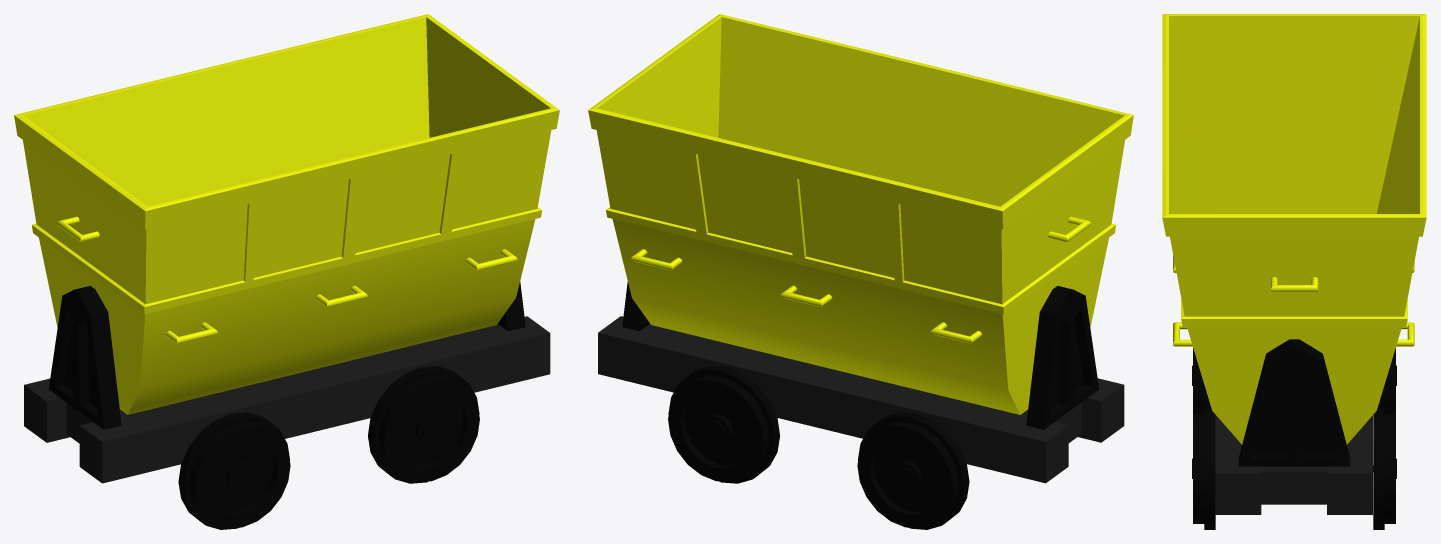
The model's file is CarroMinero.FBX.
3 views of the same model, side by side, from view 1: azimuth 30°, elevation 25°; view 2: azimuth 150°, elevation 25°; view 3: azimuth 270°, elevation 25° (orthographic).
Parts seen in each view (by area): view 1: cajon, Box015, Cylinder001, Cylinder004, Box017, Box016, Box018; view 2: cajon, Box016, Cylinder002, Cylinder005, Box017, Box015, Box018; view 3: cajon, Box018, Box015, Box016, Cylinder004, Cylinder005, Box021, Cylinder001, Cylinder002, Line008.
Part boxes in pixels (x1=…): cajon: x1=14, y1=14, x2=559, y2=414; Box015: x1=79, y1=316, x2=550, y2=483; Cylinder001: x1=178, y1=412, x2=290, y2=529; Cylinder004: x1=368, y1=366, x2=479, y2=483; Box017: x1=48, y1=285, x2=121, y2=429; Box016: x1=24, y1=378, x2=70, y2=442; Box018: x1=498, y1=281, x2=525, y2=331; cajon: x1=588, y1=14, x2=1133, y2=414; Box016: x1=598, y1=316, x2=1068, y2=483; Cylinder002: x1=857, y1=412, x2=969, y2=529; Cylinder005: x1=668, y1=366, x2=779, y2=483; Box017: x1=1026, y1=285, x2=1099, y2=429; Box015: x1=1078, y1=378, x2=1124, y2=442; Box018: x1=622, y1=281, x2=649, y2=331; cajon: x1=1162, y1=14, x2=1426, y2=444; Box018: x1=1238, y1=339, x2=1350, y2=466; Box015: x1=1215, y1=414, x2=1261, y2=514; Box016: x1=1327, y1=415, x2=1372, y2=514; Cylinder004: x1=1192, y1=407, x2=1215, y2=529; Cylinder005: x1=1373, y1=407, x2=1396, y2=529; Box021: x1=1261, y1=466, x2=1326, y2=504; Cylinder001: x1=1192, y1=348, x2=1210, y2=413; Cylinder002: x1=1378, y1=348, x2=1396, y2=413; Line008: x1=1270, y1=277, x2=1318, y2=291.
Size of the model in its own units: 170 by 131 by 86.31.
